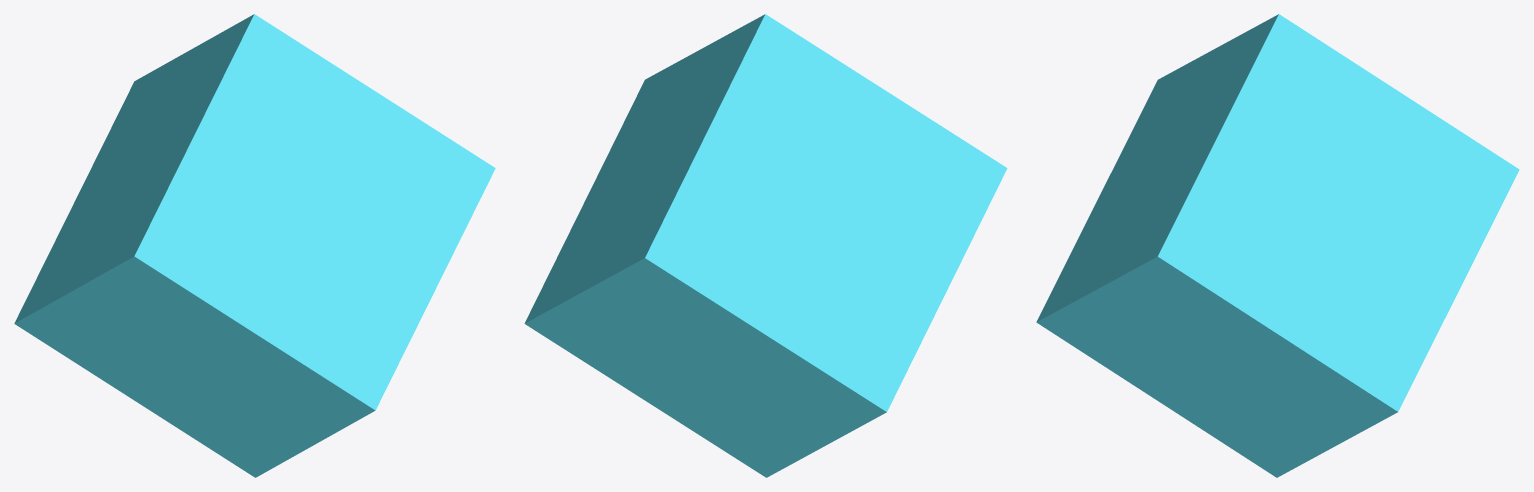
The picture shows the model from 3 angles, left to right: view 1: azimuth 30°, elevation 25°; view 2: azimuth 150°, elevation 25°; view 3: azimuth 270°, elevation 25°; orthographic projection.
Visible parts, largest first — view 1: Box001; view 2: Box001; view 3: Box001.
Part boxes in pixels (left/top/right/bottom): Box001: left=14, top=14, right=495, bottom=477; Box001: left=524, top=14, right=1007, bottom=477; Box001: left=1036, top=14, right=1519, bottom=477.
Bounding box in the file's own units: 55.68 × 68.19 × 64.38.
